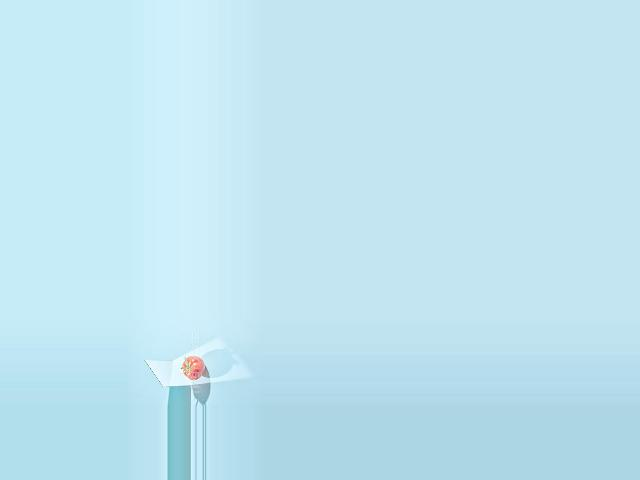tomato: (182, 356, 205, 380)
